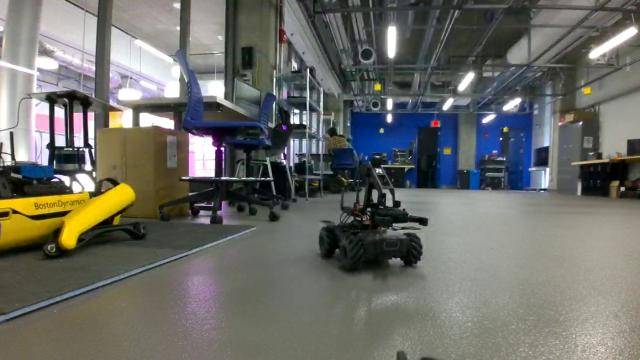robot: (314, 152, 432, 280)
